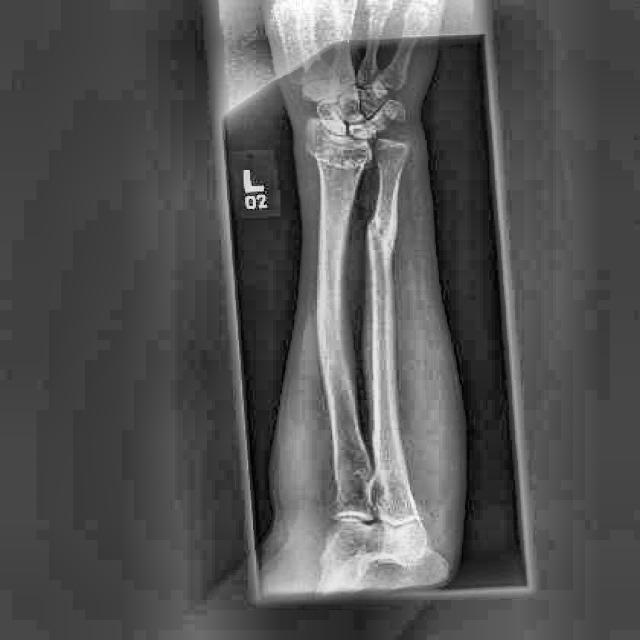forearm fracture: (351, 202, 417, 274)
